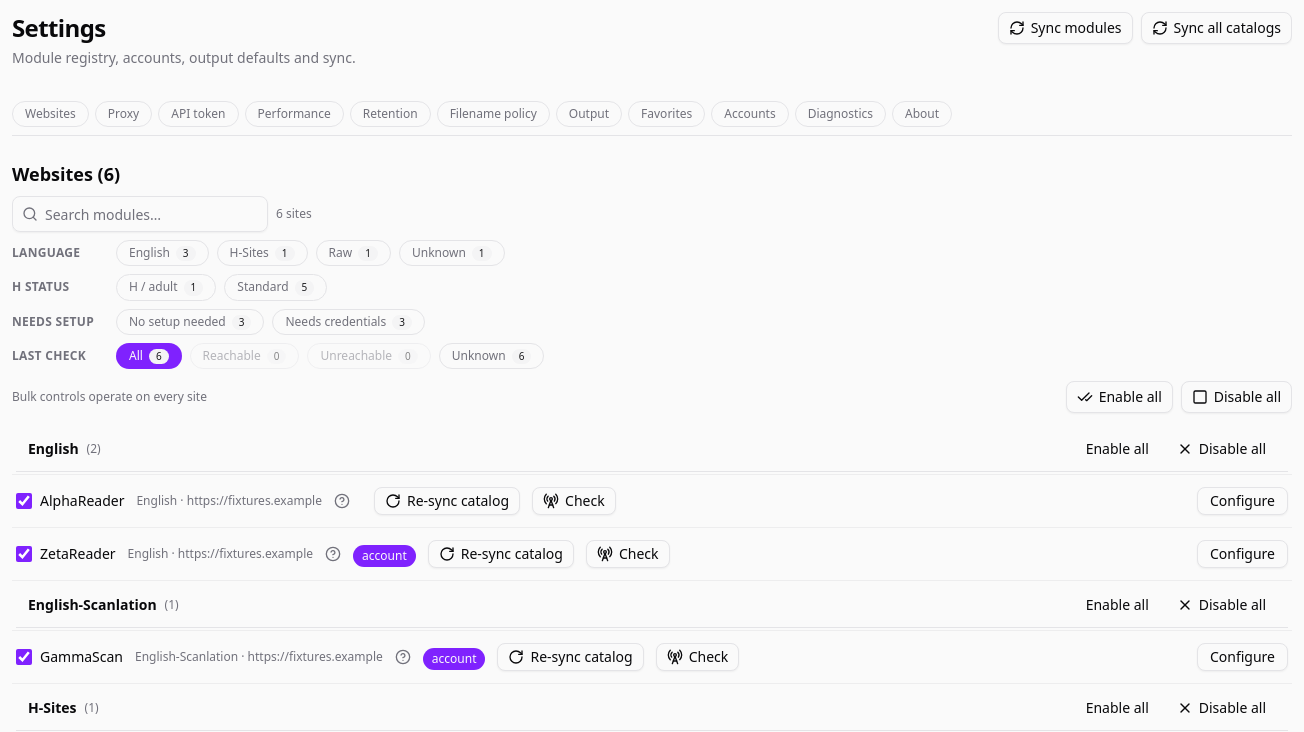
Scenario: Settings → Websites: facet chips + grouping › chip selection filters the list AND lands in the URL hash (back-nav restore channel)
What coordinates should you click on to do the following:
click the button "English 3"
I would click on:
 (162, 253)
Its box is x1=116 y1=240 x2=209 y2=266.
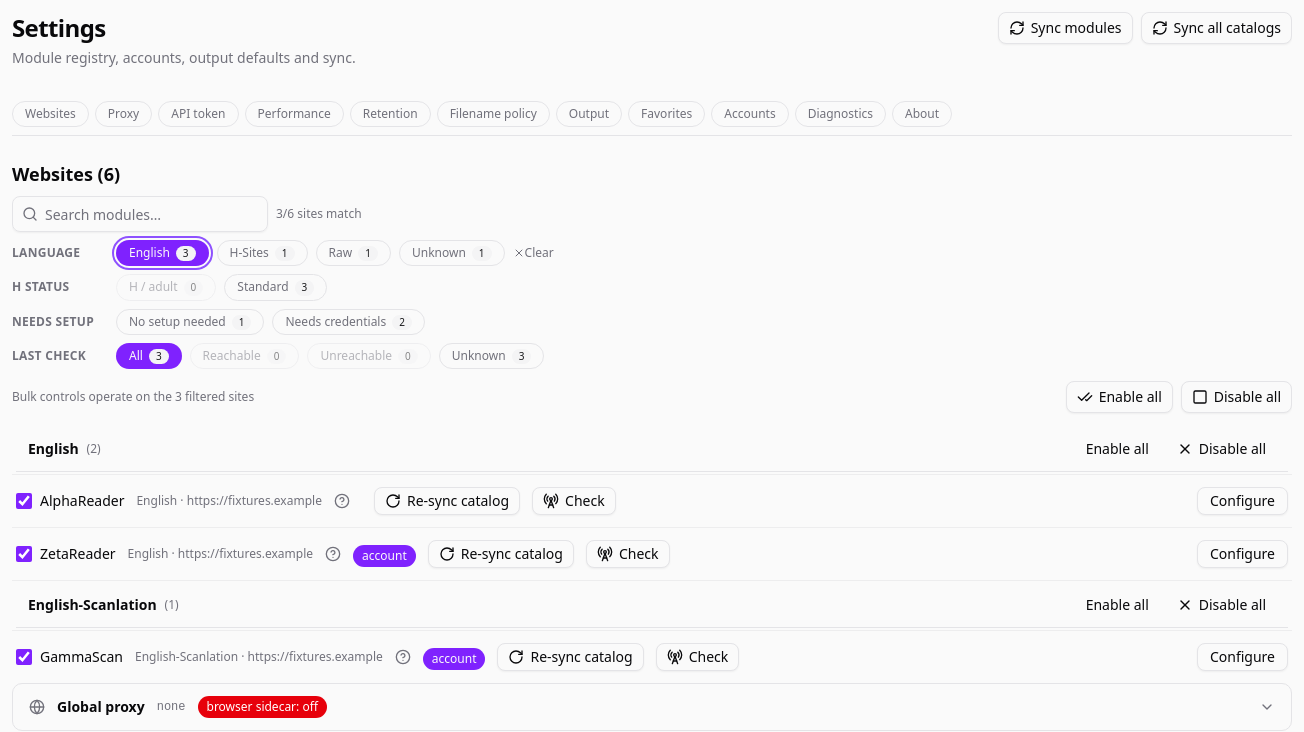
Expected: the checkbox labelled "GammaScan" is shown, x1=16 y1=649 x2=32 y2=665
Result: the message reads "3/6 sites match" at x1=276 y1=205 x2=362 y2=222
